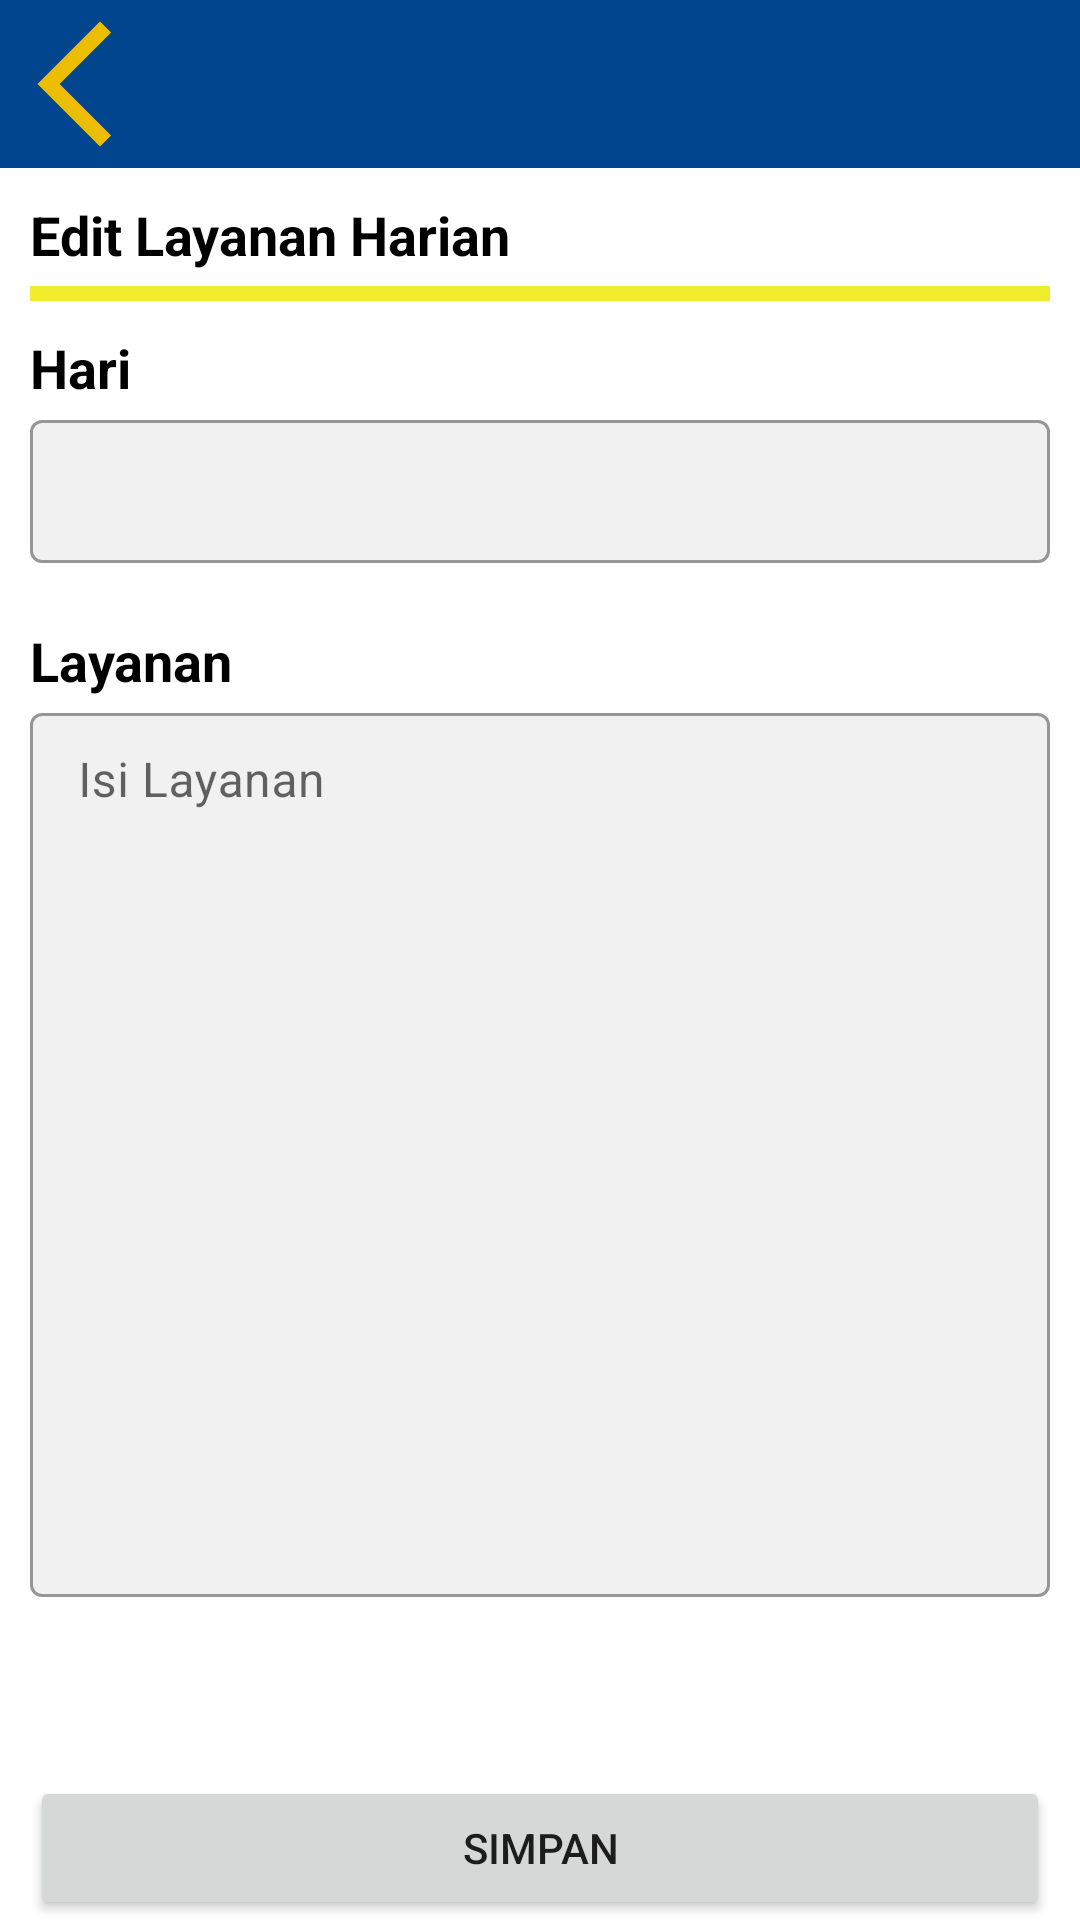

Point at icon controls on the screen. Image size 1080x1920, points as (x=x, y=y).
arrow back: (x=74, y=84)
